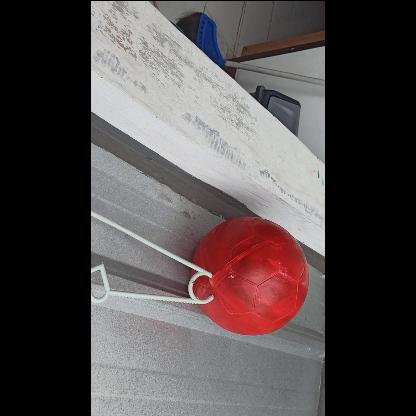red_ball: (190, 216, 310, 336)
